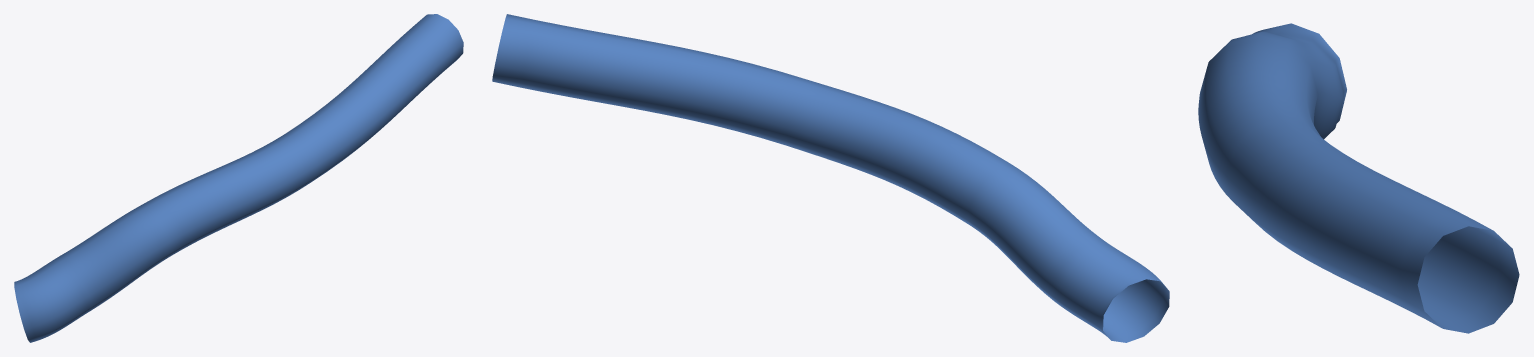
The picture shows the model from 3 angles, left to right: view 1: azimuth 30°, elevation 25°; view 2: azimuth 150°, elevation 25°; view 3: azimuth 270°, elevation 25°; orthographic projection. The views are drawn at different scales.
Visible parts, largest first — view 1: 左锁骨下静脉; view 2: 左锁骨下静脉; view 3: 左锁骨下静脉.
Boxes of the visible parts, x1=… form: 左锁骨下静脉: x1=14, y1=14, x2=463, y2=342; 左锁骨下静脉: x1=492, y1=14, x2=1169, y2=342; 左锁骨下静脉: x1=1198, y1=23, x2=1519, y2=333.
Bounding box in the file's own units: 0.1053 × 0.0373 × 0.03.
